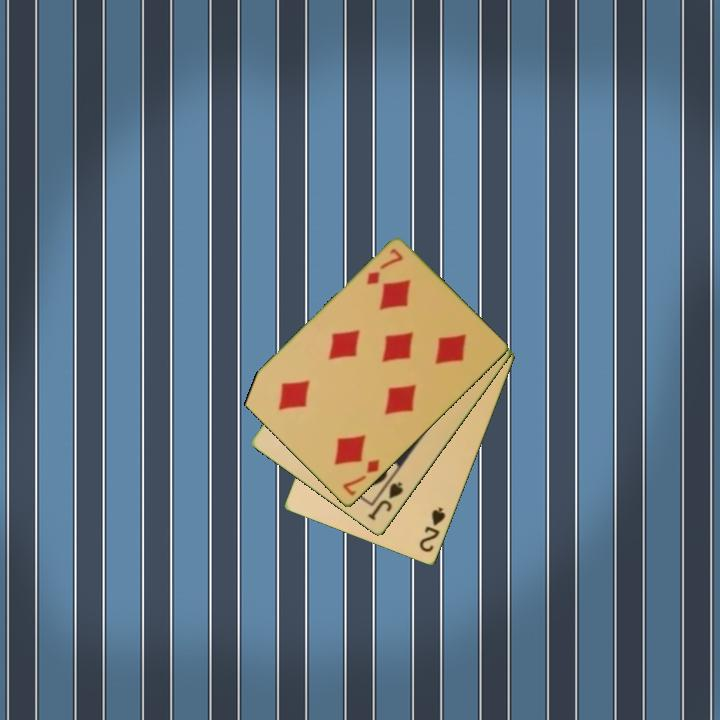2s: (416, 504, 449, 556)
7d: (339, 456, 383, 500), (363, 245, 406, 289)
Js: (364, 478, 406, 524)
